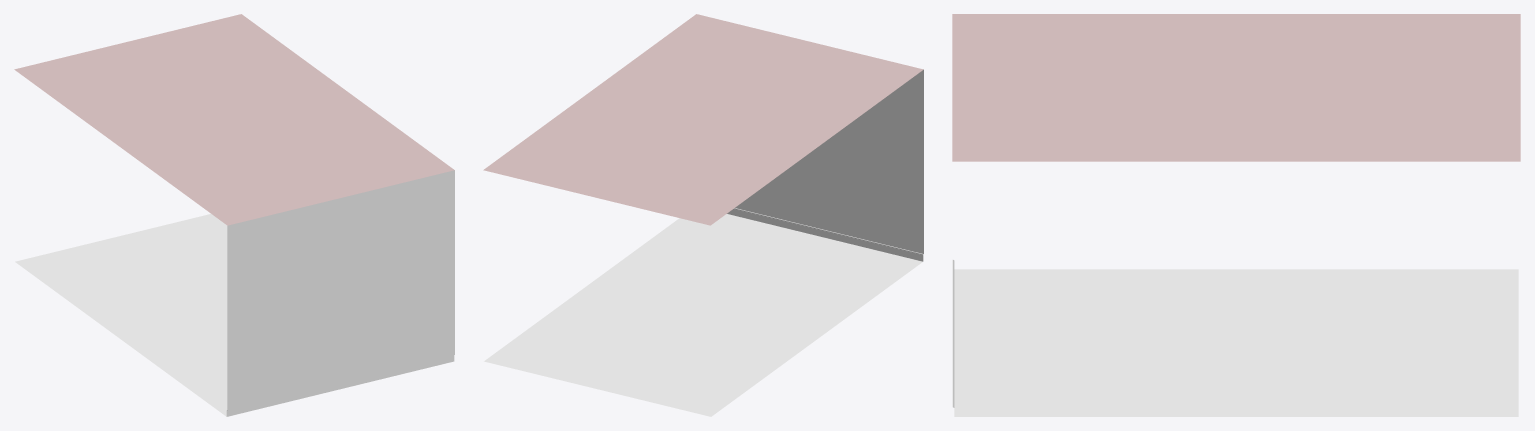
The model's file is TR_SectionA_01.fbx.
3 views of the same model, side by side, from view 1: azimuth 30°, elevation 25°; view 2: azimuth 150°, elevation 25°; view 3: azimuth 270°, elevation 25° (orthographic). The views are drawn at different scales.
Parts seen in each view (by area): view 1: TR_SectionA_01_LOD0; view 2: TR_SectionA_01_LOD0; view 3: TR_SectionA_01_LOD0.
Part boxes in pixels (<box>): TR_SectionA_01_LOD0: <box>14,14,454,416</box>; TR_SectionA_01_LOD0: <box>483,14,923,416</box>; TR_SectionA_01_LOD0: <box>952,14,1520,416</box>.
Bounding box in the file's own units: 400 × 322 × 650.
